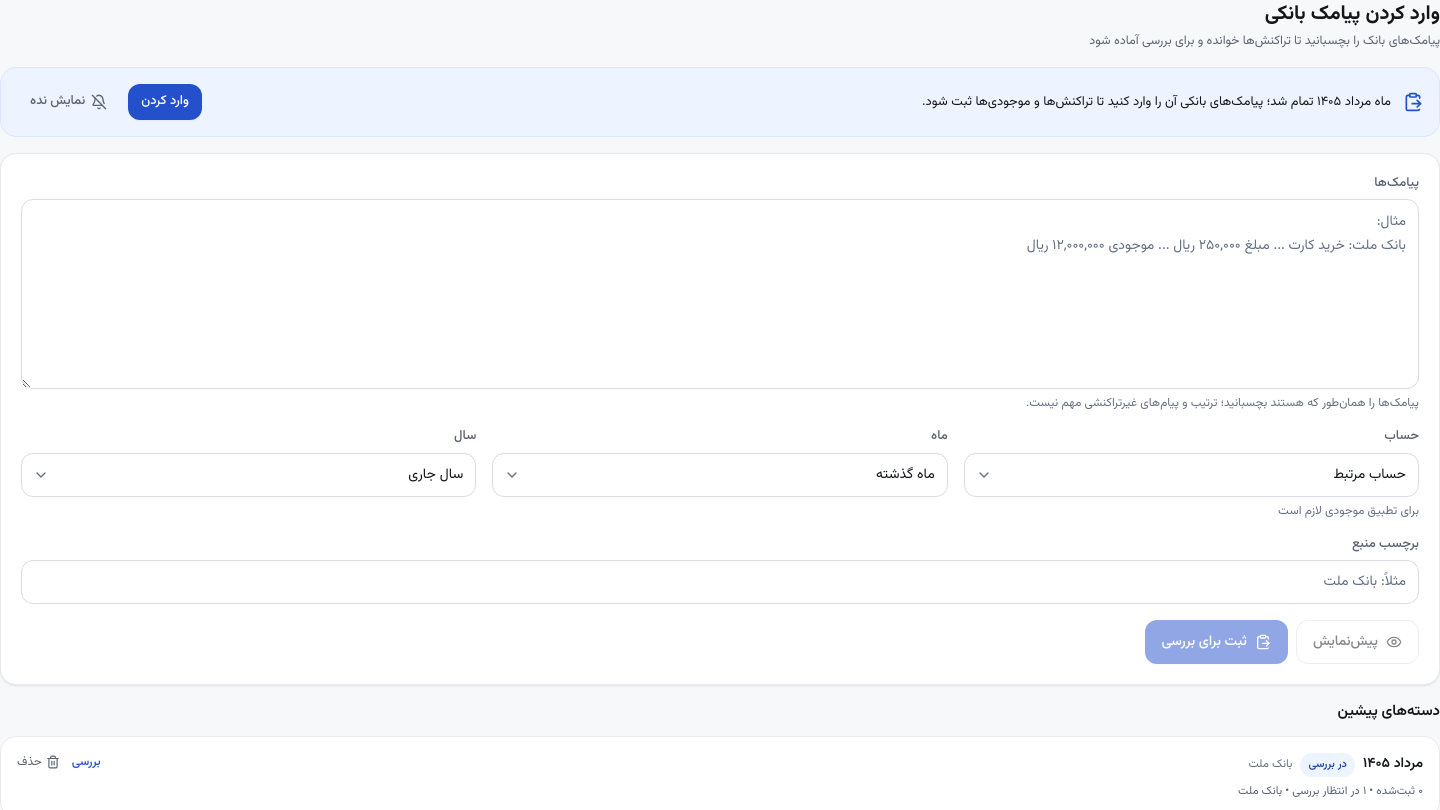
Scenario: SmsImportPage › previews a paste without staging anything
The width and height of the screenshot is (1440, 810).
In the text box labelled "پیامک‌ها": (720, 294) [21,199,1419,389], type "بانک ملت: خرید کارت ... مبلغ ۲۵۰,۰۰۰ ریال"
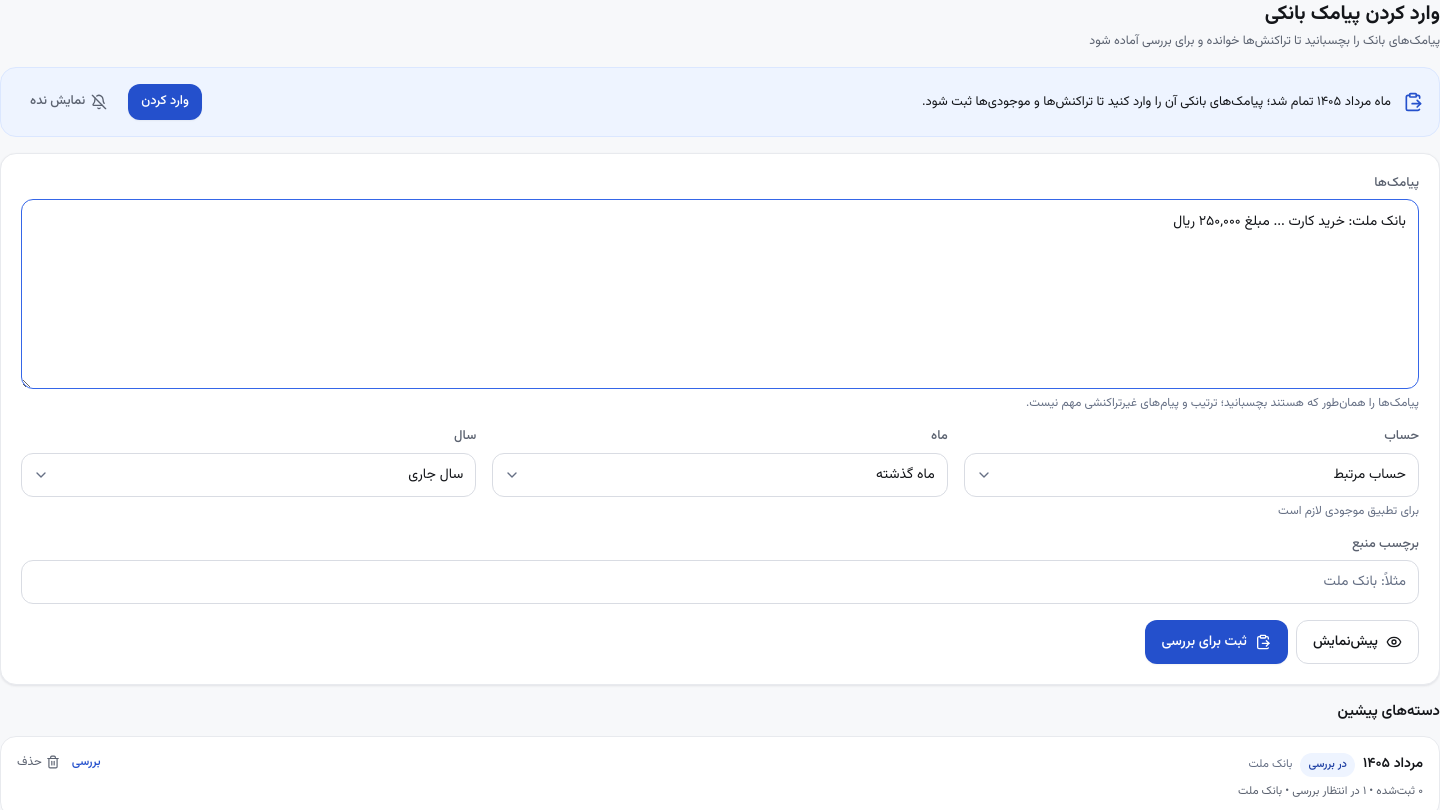
Click the button "پیش‌نمایش": click(1357, 642) [1296,620,1419,664]
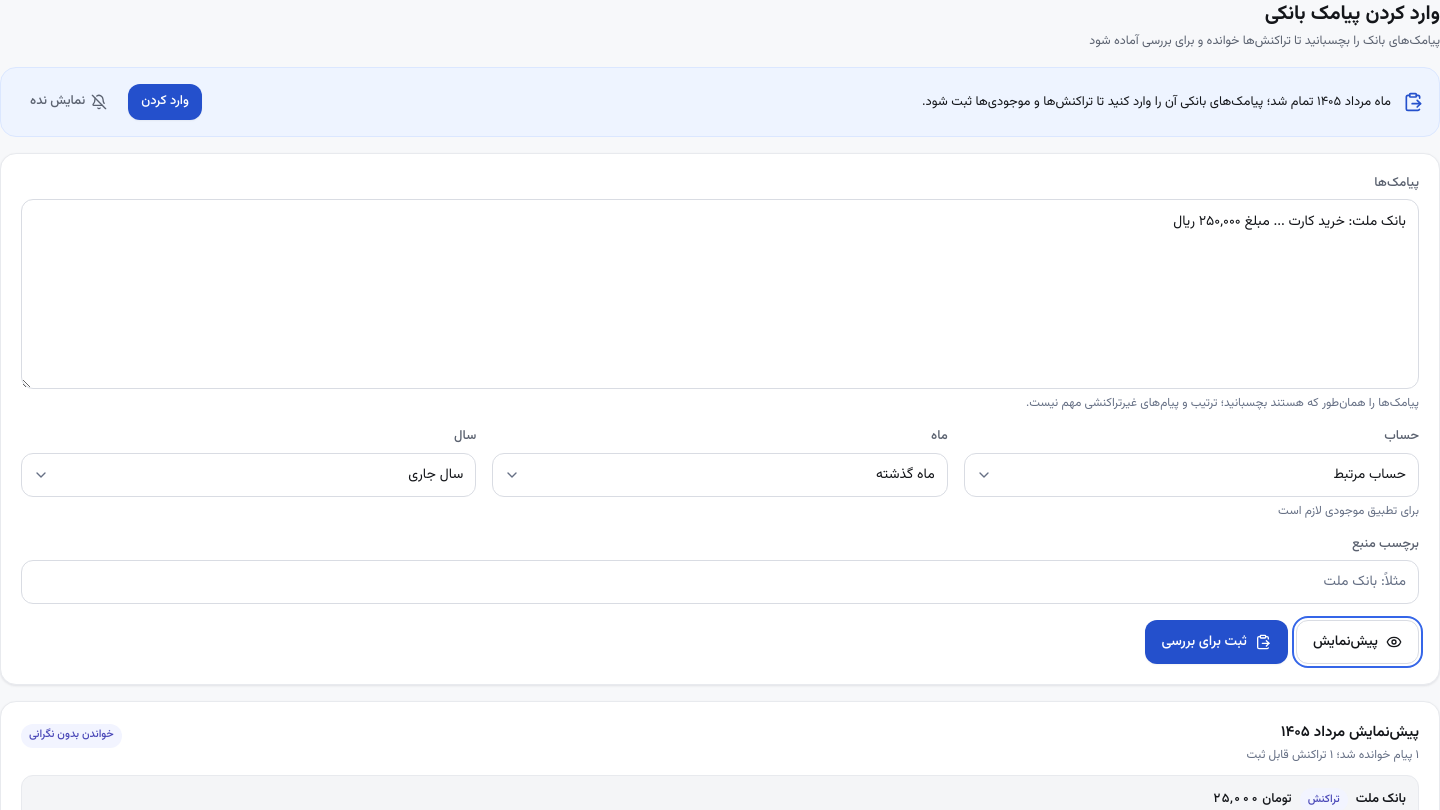
Check: the text "بانک ملت" is shown, box [1356,790,1406,809]
Check: the heading "پیش‌نمایش مرداد 1405" is shown, box [1281,721,1419,744]
